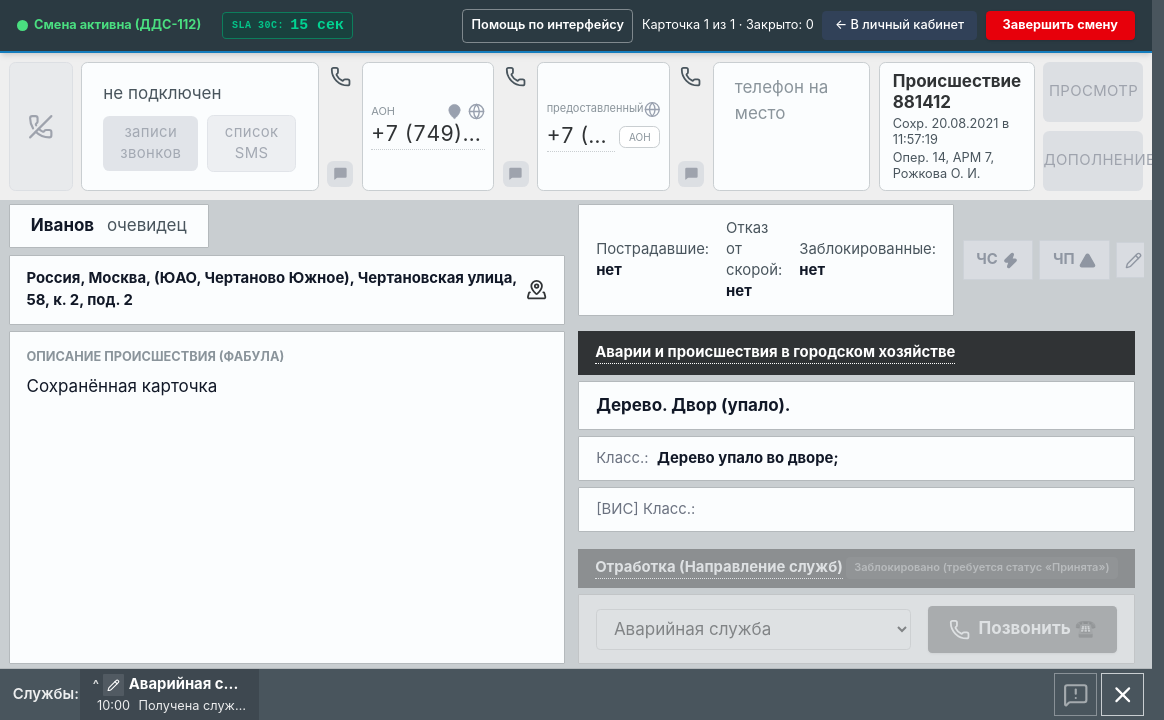
Scenario: Interface familiarization › continues the server-based SLA clock while lesson help is open
Expected: the text "15 сек" is shown, [290,15,344,36]
What coordinates should you click on to do the following:
click the button "Помощь по интерфейсу"
I would click on:
 (548, 26)
Its box is [462,8,633,42].
Wait 2000 ms
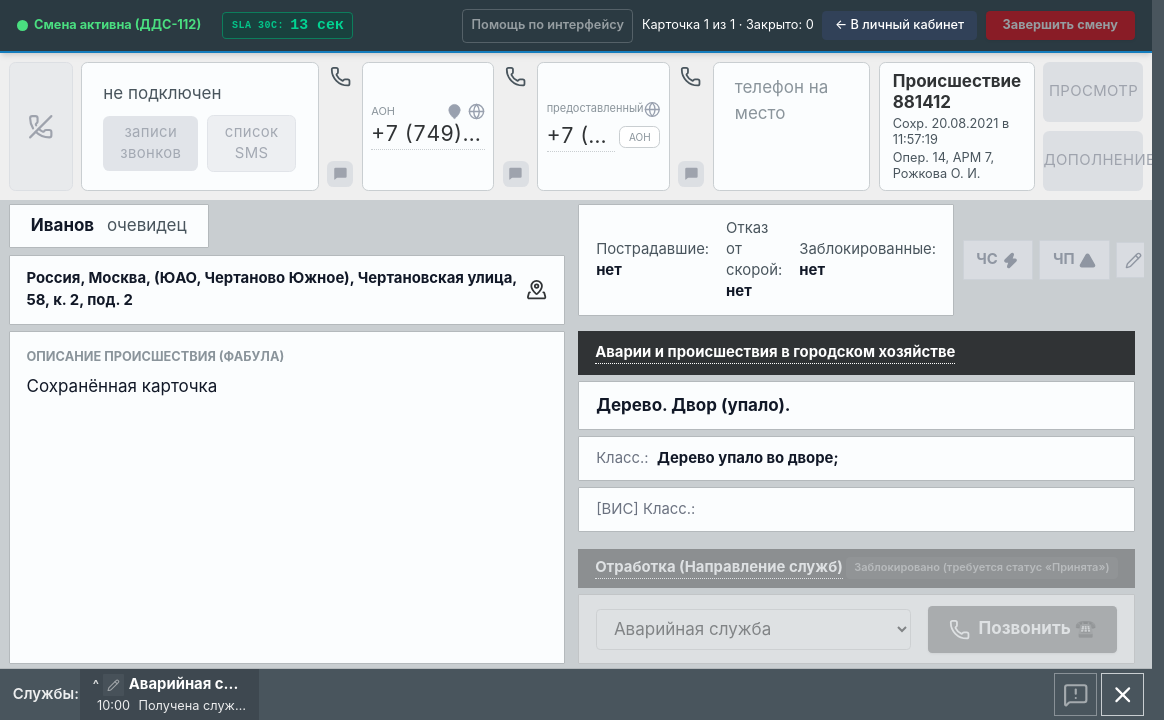
Expected: the text "13 сек" is shown, [290,15,344,36]
